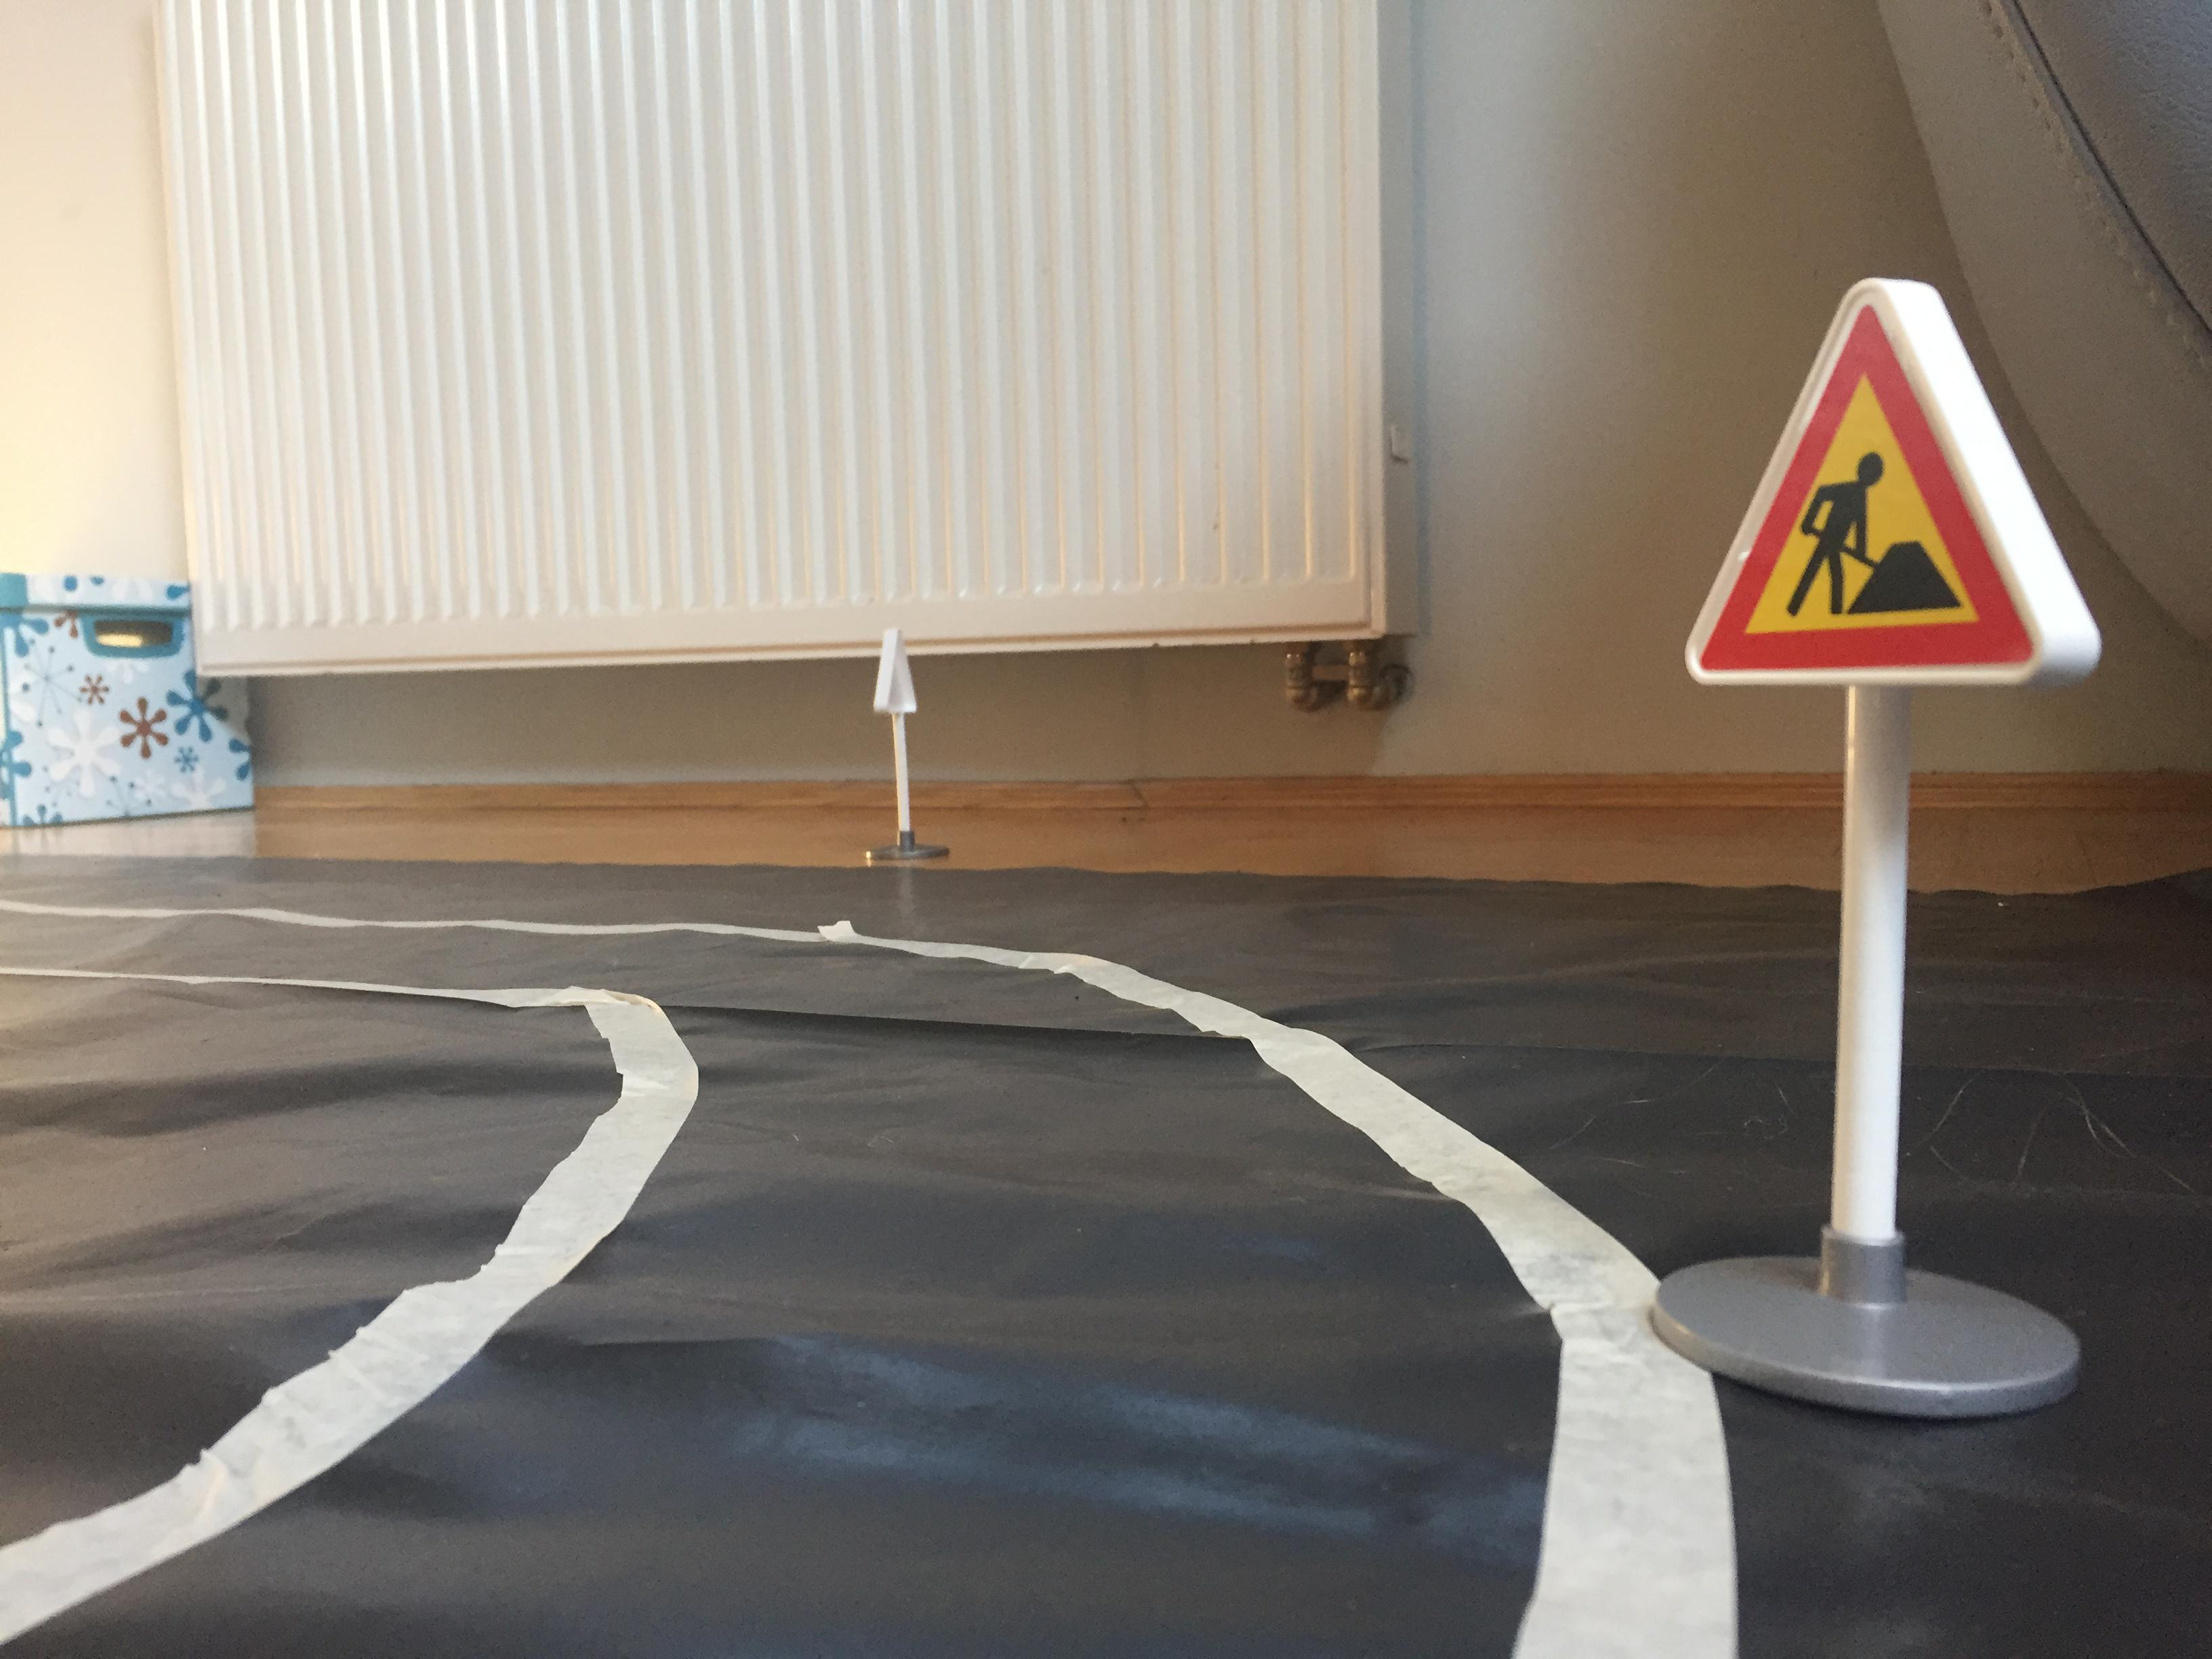work: (1672, 265, 2118, 708)
